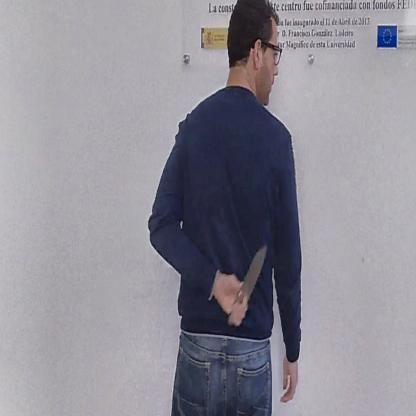knife: (224, 236, 270, 327)
